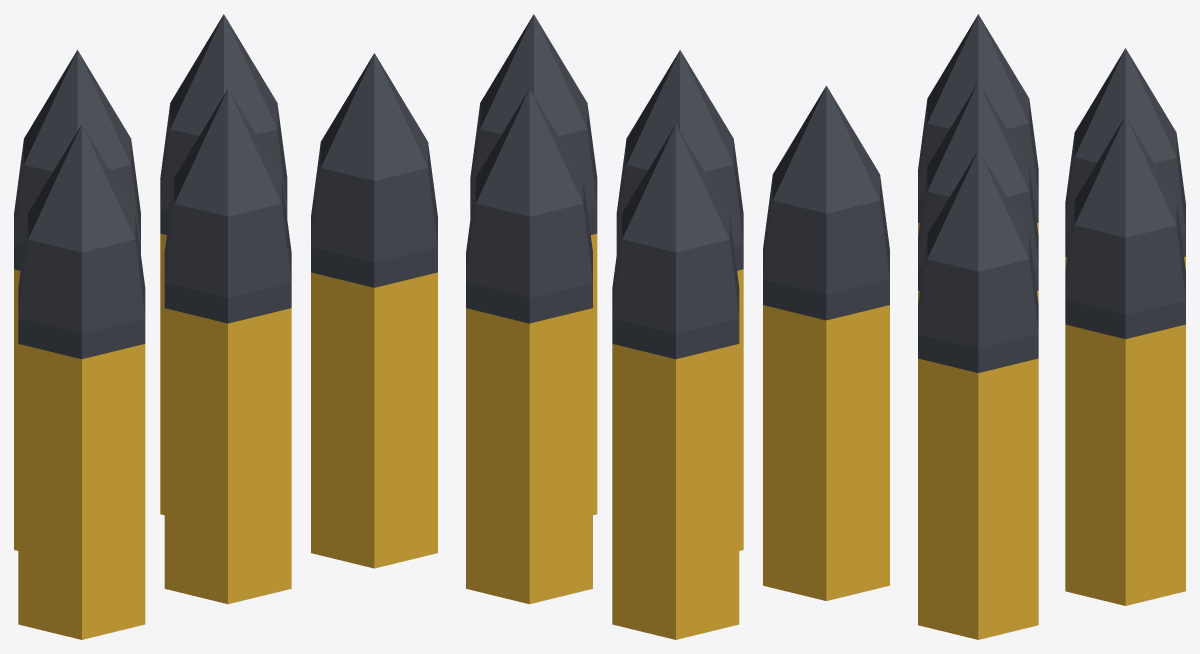
File: ArtilleryShells.fbx
3 views of the same model, side by side, from view 1: azimuth 30°, elevation 25°; view 2: azimuth 150°, elevation 25°; view 3: azimuth 270°, elevation 25° (orthographic). The views are drawn at different scales.
Parts seen in each view (by area): view 1: ArtilleryShells; view 2: ArtilleryShells; view 3: ArtilleryShells.
Boxes of the visible parts, left/top/right/bottom form: ArtilleryShells: left=14, top=14, right=437, bottom=639; ArtilleryShells: left=466, top=14, right=889, bottom=639; ArtilleryShells: left=918, top=14, right=1185, bottom=639.
Size of the model in its own units: 1.72 by 1.9 by 1.
Materials: 1 (1 with a texture image).
